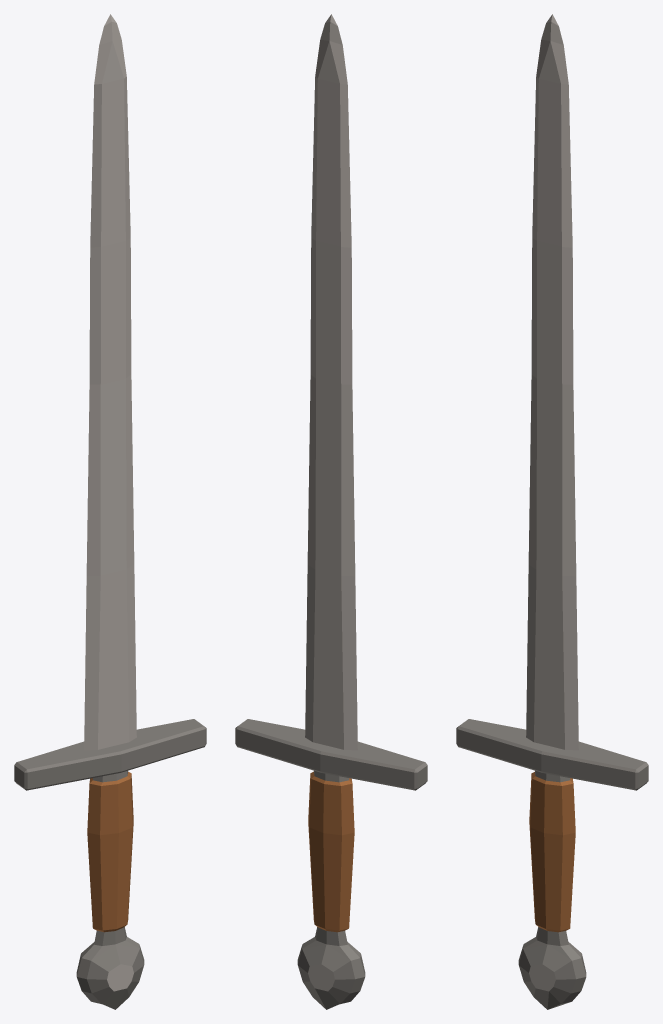
File: SM_pwe_medieval_sword_03.fbx
The picture shows the model from 3 angles, left to right: view 1: azimuth 30°, elevation 25°; view 2: azimuth 150°, elevation 25°; view 3: azimuth 330°, elevation 25°; orthographic projection.
Parts seen in each view (by area): view 1: SM_pwe_medieval_sword_03; view 2: SM_pwe_medieval_sword_03; view 3: SM_pwe_medieval_sword_03.
Part boxes in pixels (<box>): SM_pwe_medieval_sword_03: <box>14,14,206,1009</box>; SM_pwe_medieval_sword_03: <box>235,14,427,1009</box>; SM_pwe_medieval_sword_03: <box>456,14,648,1009</box>.
Size of the model in its own units: 20.72 by 108 by 4.41.
